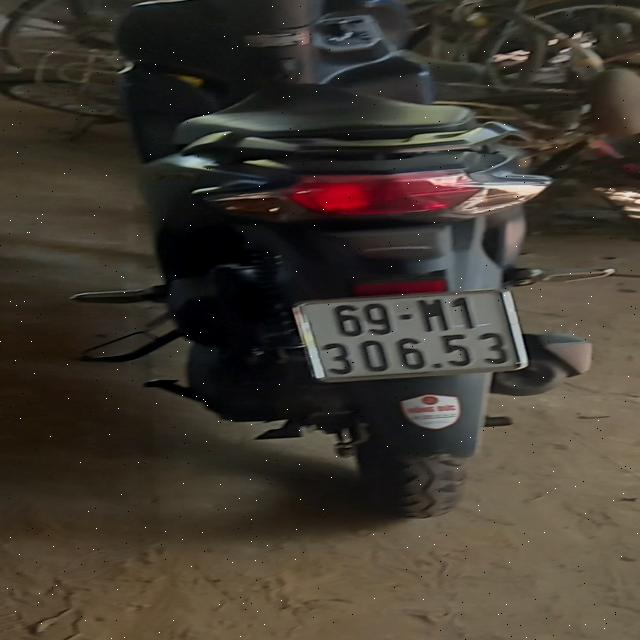0: (359, 339, 390, 373)
1: (451, 297, 475, 328)
3: (477, 332, 508, 364), (321, 343, 351, 375)
5: (441, 334, 473, 367)
6: (332, 305, 362, 336), (396, 338, 424, 369)
9: (363, 302, 394, 336)
M: (416, 298, 451, 332)
